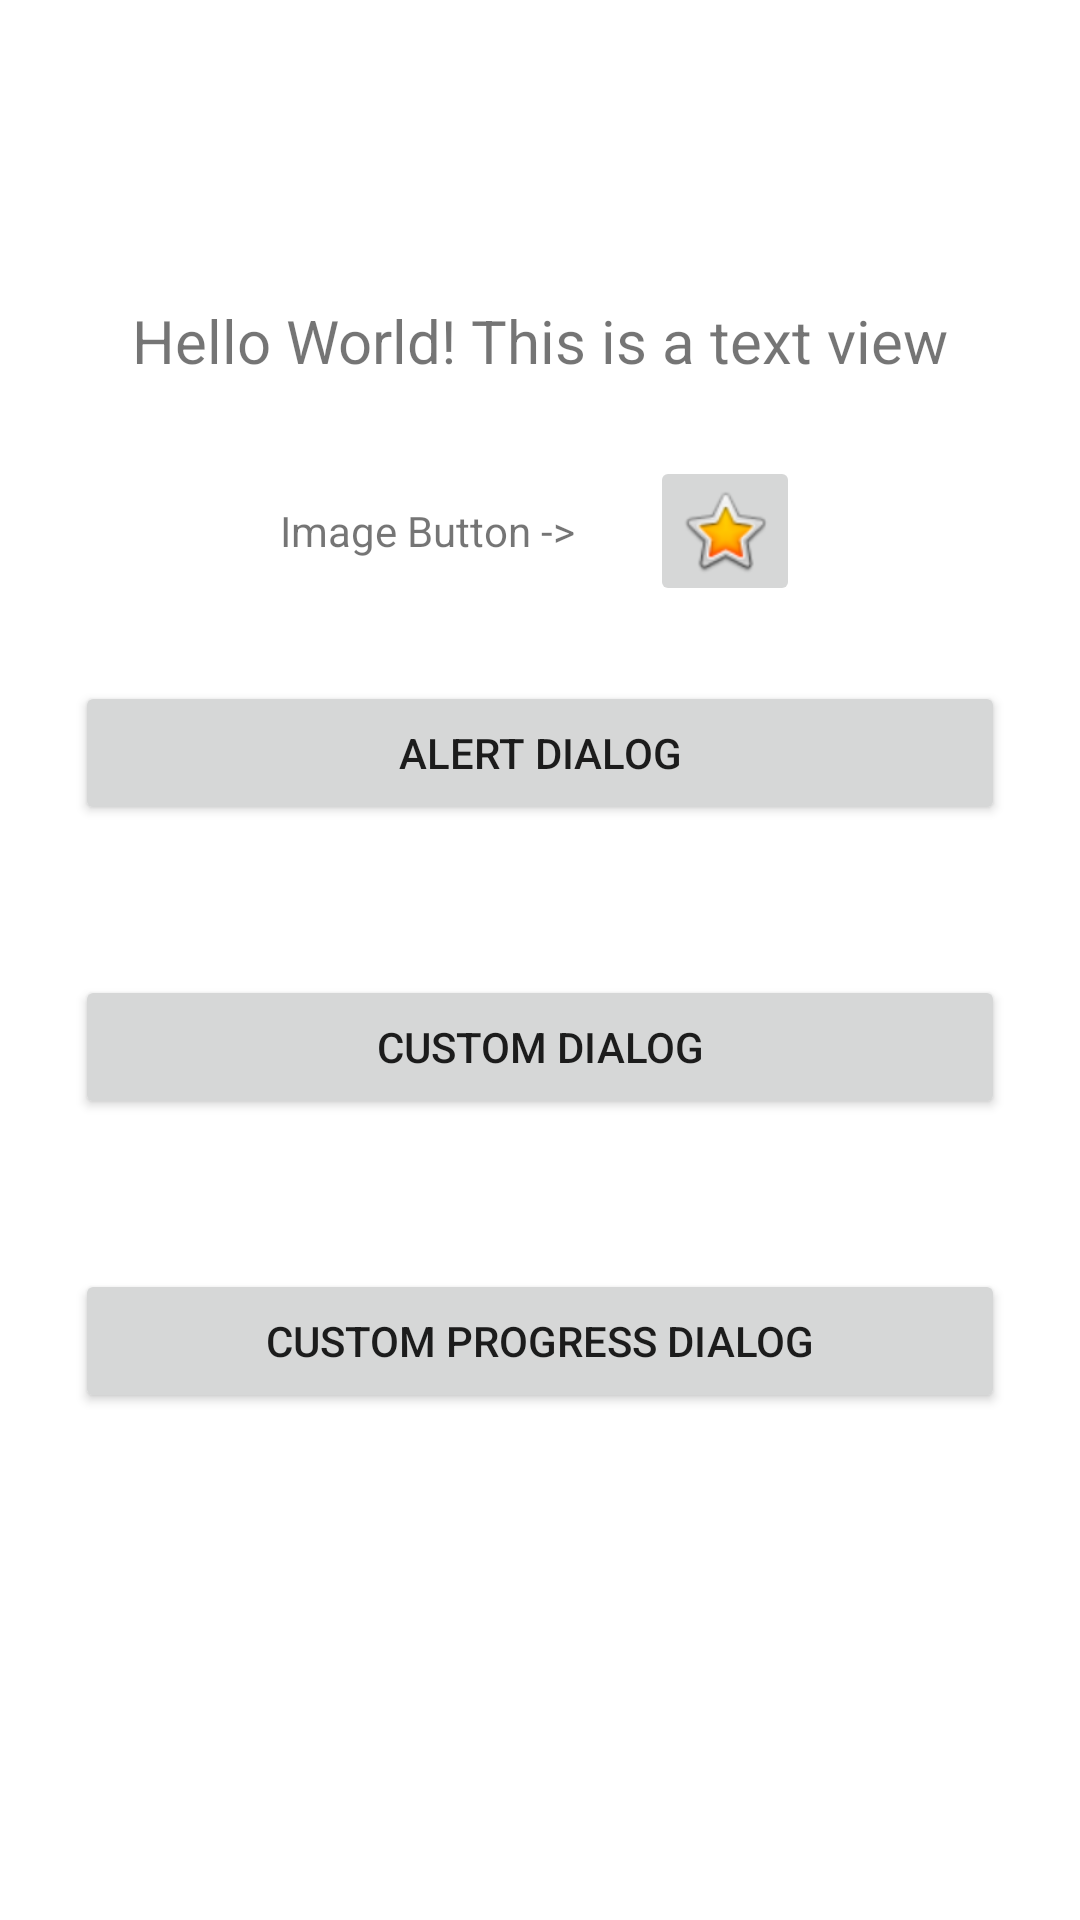

Named icons in this screenshot (1080 × 1920) and their bounding boxes, box=[x1, y1, x2, y2]:
star on: box=[662, 474, 788, 588]
